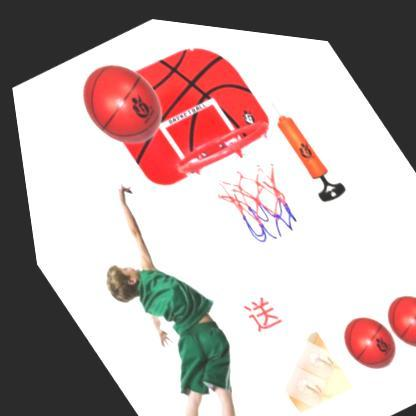basketball: (60, 41, 179, 159), (321, 293, 401, 374), (366, 271, 416, 350)
rim: (164, 102, 328, 261)
